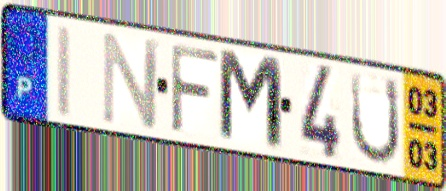4: (297, 61, 344, 163)
F: (168, 40, 222, 138)
I: (53, 21, 75, 122)
M: (215, 45, 287, 156)
N: (100, 30, 163, 131)
U: (348, 69, 402, 168)
